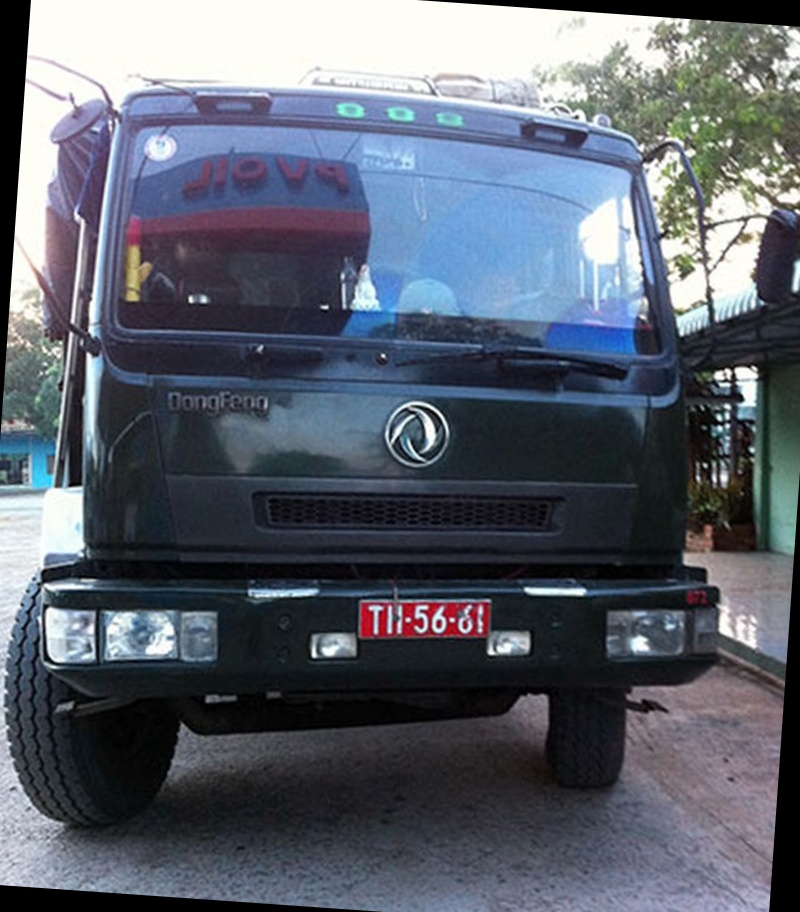plate: (353, 593, 492, 639)
